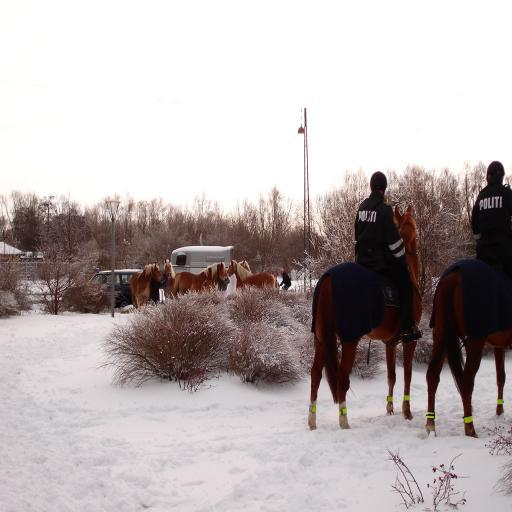Horse: (307, 202, 424, 430), (424, 257, 511, 440), (130, 259, 275, 313)
